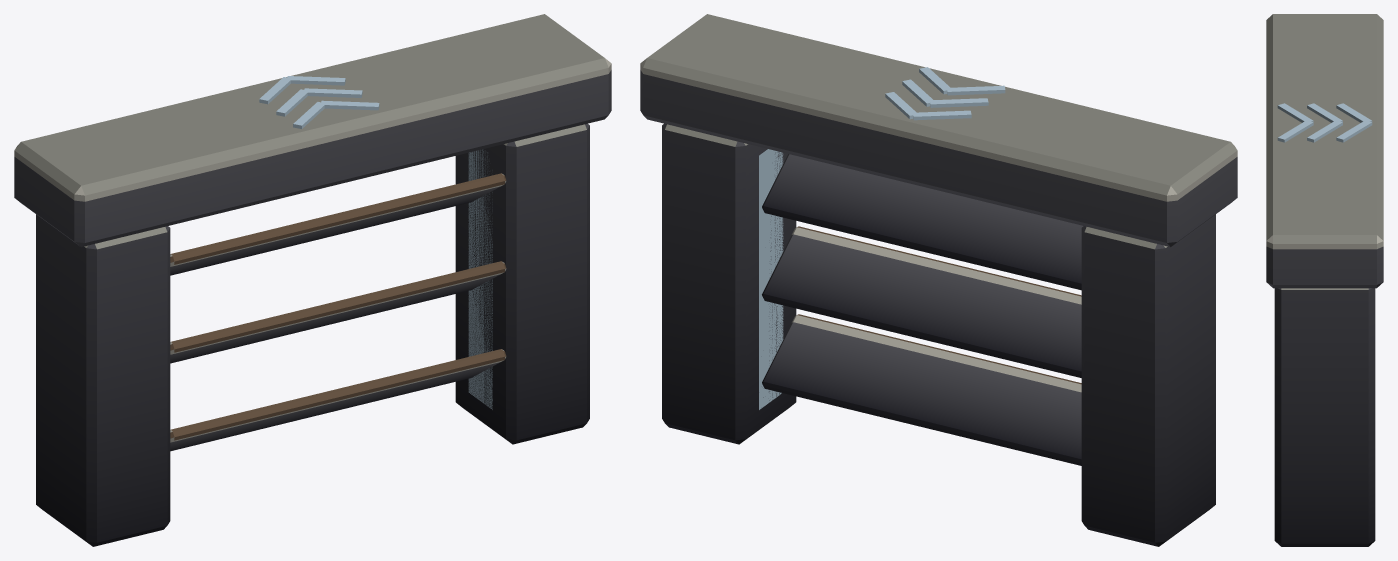
File: wind_gate_pulse.glb
The picture shows the model from 3 angles, left to right: view 1: azimuth 30°, elevation 25°; view 2: azimuth 150°, elevation 25°; view 3: azimuth 270°, elevation 25°; orthographic projection. The views are drawn at different scales.
Visible parts, largest first — view 1: WindGate_Pulse, WindGate_Pulse_Inlay; view 2: WindGate_Pulse, WindGate_Pulse_Inlay; view 3: WindGate_Pulse, WindGate_Pulse_Inlay.
Boxes of the visible parts, x1,y1,x2,y2 form: WindGate_Pulse: (14,14,611,546); WindGate_Pulse_Inlay: (259,76,492,409); WindGate_Pulse: (640,14,1237,546); WindGate_Pulse_Inlay: (759,67,1005,409); WindGate_Pulse: (1266,14,1383,546); WindGate_Pulse_Inlay: (1277,103,1372,142).
Size of what is drawn, in the model's own units: 6.4 by 4.24 by 1.4.
